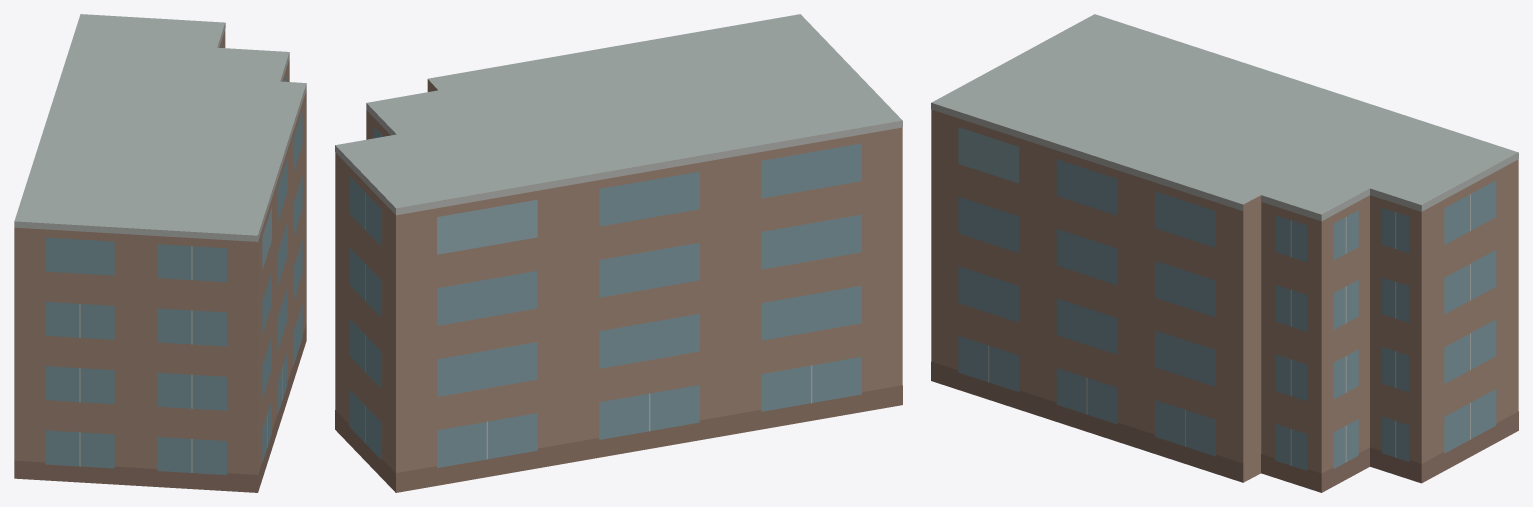
The model's file is survey-upis-32806622.glb.
3 views of the same model, side by side, from view 1: azimuth 30°, elevation 25°; view 2: azimuth 150°, elevation 25°; view 3: azimuth 270°, elevation 25° (orthographic). The views are drawn at different scales.
Visible parts, largest first — view 1: survey-upis-32806622.tmp; view 2: survey-upis-32806622.tmp; view 3: survey-upis-32806622.tmp.
Boxes of the visible parts, box(x1,y1,x2,y2) form: survey-upis-32806622.tmp: box(14, 14, 306, 492); survey-upis-32806622.tmp: box(335, 14, 902, 492); survey-upis-32806622.tmp: box(931, 14, 1518, 492).
Bounding box in the file's own units: 15.63 × 10.1 × 19.34.
